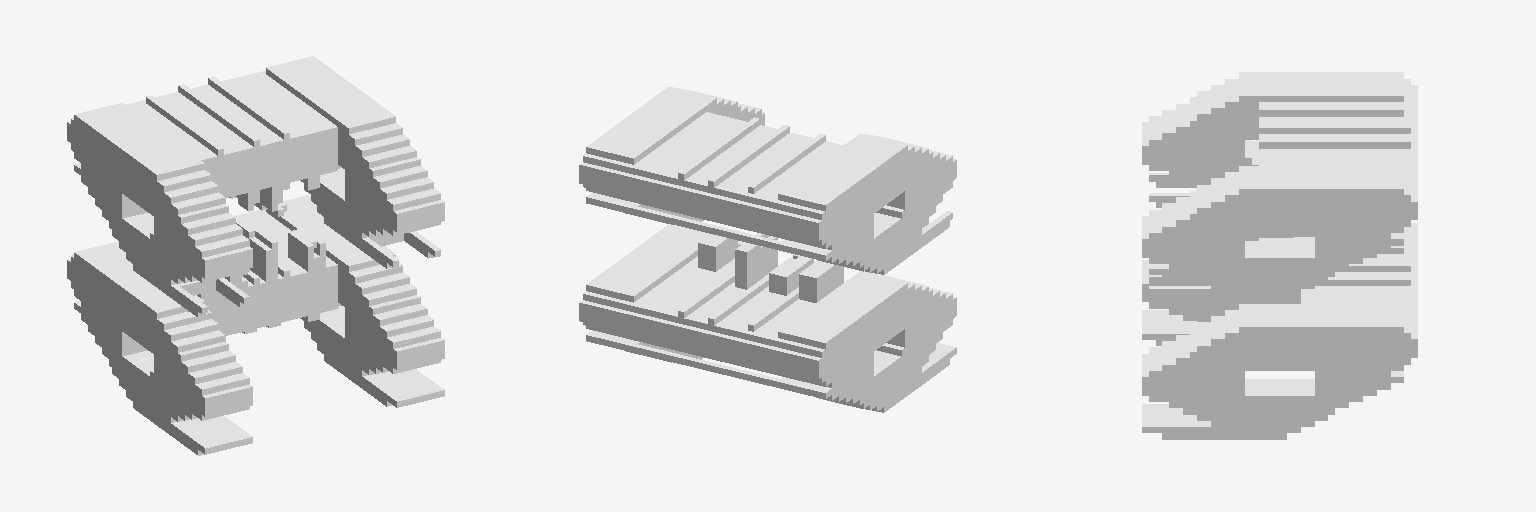
Rendered from bossenemy.obj.
The picture shows the model from 3 angles: view 1: azimuth 30°, elevation 25°; view 2: azimuth 150°, elevation 25°; view 3: azimuth 270°, elevation 25°; orthographic projection.
Visible parts, largest first — view 1: object 1; view 2: object 1; view 3: object 1.
Boxes of the visible parts, x1=… form: object 1: x1=67, y1=56, x2=444, y2=455; object 1: x1=579, y1=86, x2=956, y2=412; object 1: x1=1142, y1=72, x2=1417, y2=439.
Bounding box in the file's own units: 4 × 4 × 4.